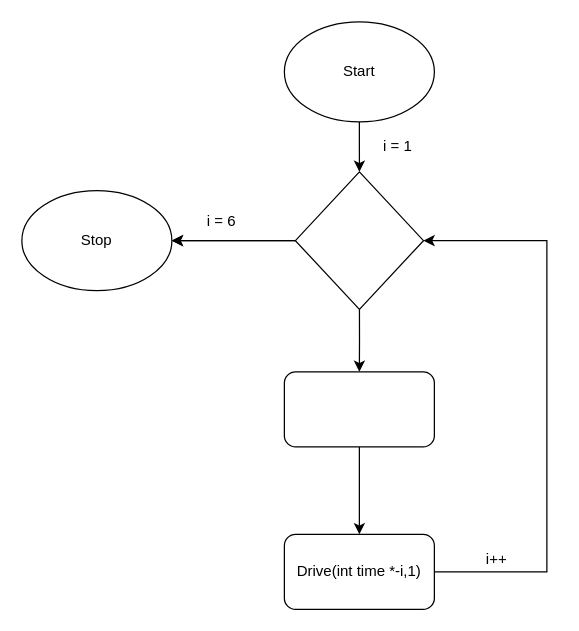
Some shapes in this 579 by 631 pixel diagram are drawn without their labels. The centre of each missing label's shape, as x and y in pixels:
"Drive(int time *i, 1)" belongs at (358,409).
"for" belongs at (359,240).
